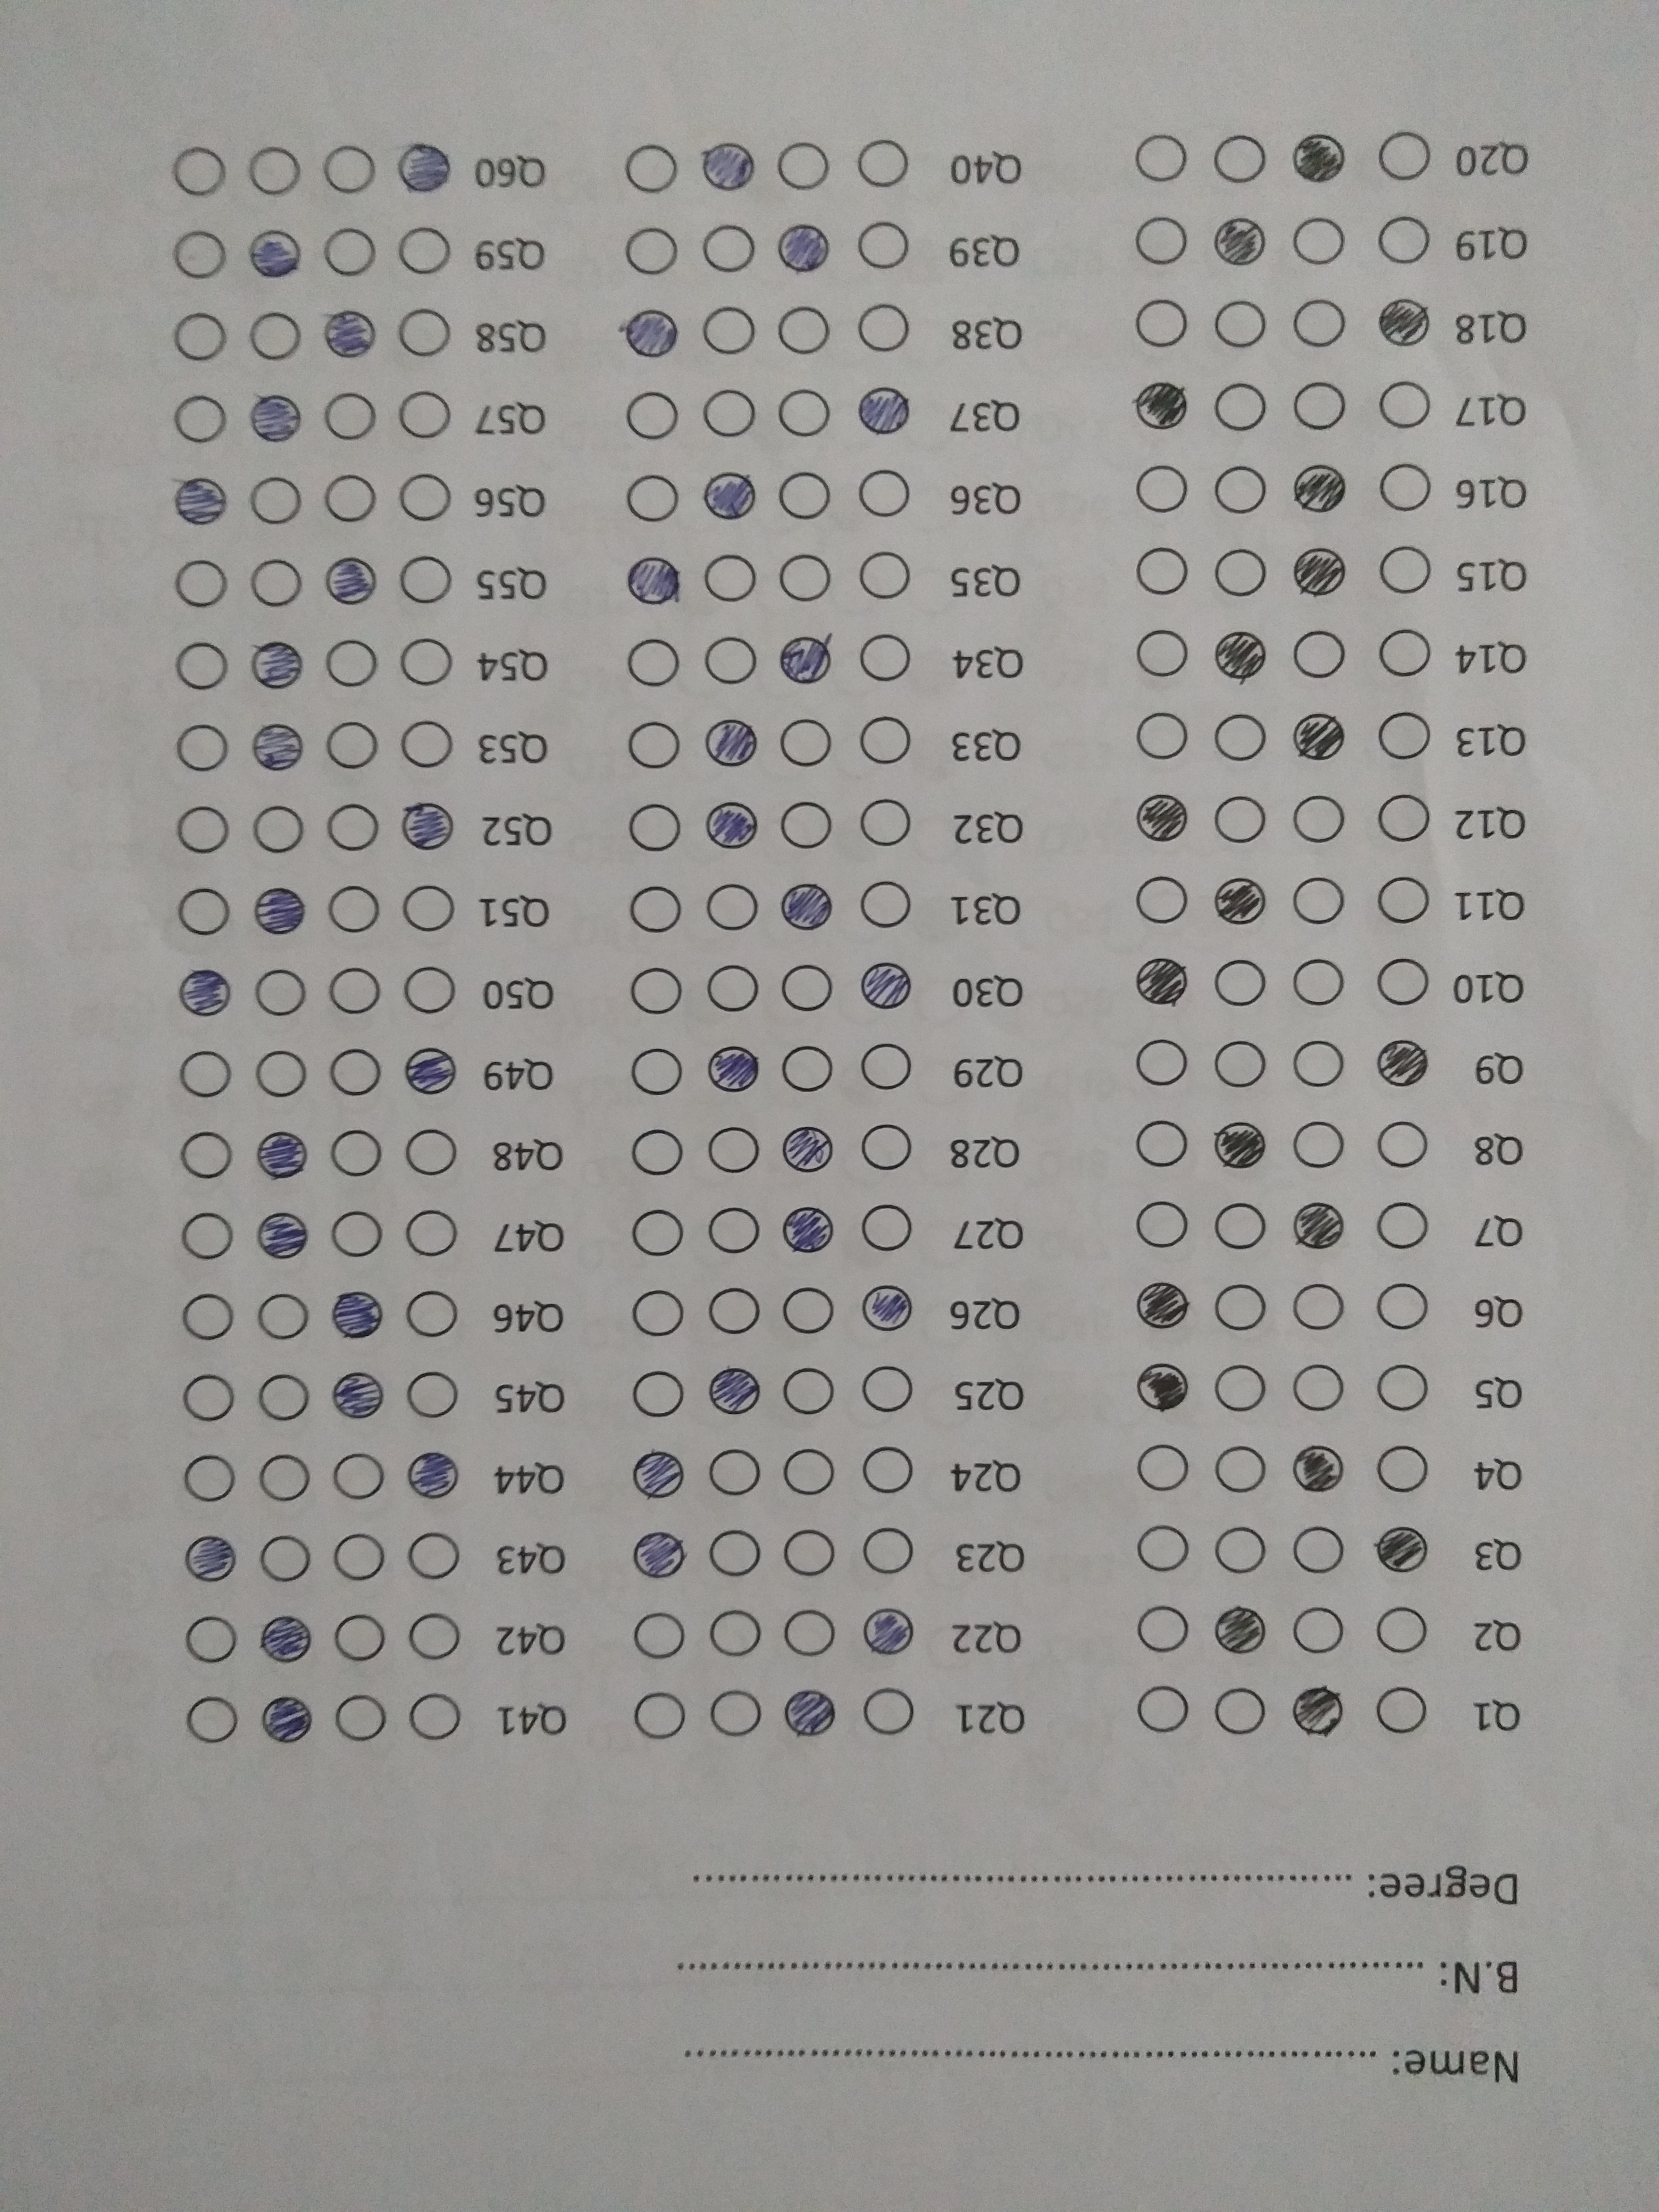not-c: (242, 303, 308, 369), (317, 138, 383, 204), (239, 139, 305, 206), (166, 139, 232, 204), (389, 218, 455, 282), (171, 880, 237, 944), (167, 794, 234, 859), (169, 632, 235, 697), (166, 552, 232, 617), (166, 383, 232, 448), (167, 308, 234, 373), (166, 228, 232, 293), (315, 216, 380, 280), (167, 718, 232, 782), (317, 387, 382, 448), (404, 1686, 469, 1747), (173, 1045, 237, 1106), (322, 960, 387, 1021), (247, 961, 312, 1022), (394, 714, 458, 775), (396, 632, 460, 693), (321, 796, 385, 857), (317, 470, 382, 531), (246, 799, 310, 860), (242, 470, 307, 531), (401, 1362, 465, 1423), (399, 1285, 464, 1346), (324, 1608, 389, 1669), (326, 1526, 390, 1587), (251, 1526, 315, 1587), (253, 1449, 317, 1510), (249, 1369, 314, 1430), (247, 1287, 312, 1348), (178, 1609, 242, 1670), (174, 1367, 239, 1428), (174, 1205, 239, 1266), (174, 1125, 239, 1186), (399, 1608, 464, 1669), (394, 303, 457, 364), (396, 878, 458, 939), (322, 878, 385, 939), (321, 631, 383, 691), (244, 552, 307, 613), (396, 385, 458, 446), (399, 1122, 462, 1183), (326, 1684, 389, 1745), (322, 1122, 385, 1183), (176, 1291, 239, 1352), (1134, 1679, 1195, 1742), (775, 958, 836, 1021), (777, 796, 838, 859), (701, 545, 762, 608), (777, 1278, 838, 1341), (702, 1202, 763, 1264), (626, 1122, 687, 1184), (1129, 864, 1190, 927), (1209, 789, 1270, 852), (1288, 1033, 1349, 1096), (1288, 787, 1349, 850), (397, 963, 462, 1022), (392, 552, 457, 611), (319, 716, 383, 775), (392, 469, 457, 528), (399, 1204, 464, 1263), (181, 1689, 246, 1749), (326, 1204, 390, 1263), (324, 1045, 389, 1104), (179, 1449, 244, 1508), (249, 1045, 314, 1104), (702, 960, 763, 1021), (702, 876, 763, 937), (1209, 1195, 1270, 1256), (1373, 456, 1434, 517), (1209, 376, 1270, 437), (1209, 1684, 1270, 1745), (1373, 1197, 1434, 1258), (403, 1524, 465, 1583), (328, 1444, 390, 1503), (1129, 129, 1188, 192), (861, 1033, 920, 1096), (777, 1038, 836, 1101), (627, 961, 687, 1024), (856, 873, 915, 935), (857, 791, 917, 853), (856, 711, 915, 773), (856, 543, 915, 606), (854, 465, 913, 528), (854, 298, 913, 361), (775, 711, 835, 773), (775, 467, 835, 529), (774, 380, 833, 442), (775, 300, 835, 362), (701, 383, 760, 446), (624, 880, 683, 942), (626, 796, 685, 859), (624, 629, 683, 691), (701, 301, 760, 364), (852, 212, 911, 275), (699, 216, 758, 279), (622, 221, 681, 284), (852, 134, 911, 197), (774, 134, 833, 197), (622, 136, 681, 199), (857, 1522, 917, 1585), (856, 1353, 915, 1416), (854, 1195, 913, 1258), (777, 1602, 836, 1665), (781, 1522, 840, 1585), (779, 1442, 838, 1505), (777, 1360, 836, 1423), (708, 1604, 767, 1667), (629, 1280, 688, 1343), (704, 1280, 763, 1343), (704, 1120, 763, 1183), (631, 1683, 690, 1745), (629, 1205, 688, 1268), (1209, 1033, 1269, 1096), (1209, 951, 1269, 1014), (1131, 1115, 1190, 1177), (1133, 1031, 1192, 1094), (1211, 705, 1270, 768), (1290, 620, 1349, 683), (1377, 624, 1436, 686), (1131, 620, 1190, 683), (1209, 543, 1269, 606), (1133, 540, 1192, 603), (1208, 458, 1267, 521), (1133, 455, 1192, 517), (1377, 374, 1436, 437), (1291, 376, 1351, 439), (1133, 209, 1192, 272), (1375, 124, 1434, 186), (1291, 1602, 1351, 1665), (1290, 1280, 1349, 1343), (1209, 1440, 1269, 1503), (1288, 1353, 1347, 1416), (1209, 1357, 1269, 1420), (1133, 1515, 1192, 1578), (1134, 1437, 1194, 1500), (1375, 1116, 1434, 1179), (1290, 1115, 1349, 1177), (1377, 949, 1436, 1012), (1288, 949, 1347, 1012), (1375, 873, 1434, 935), (1290, 869, 1349, 932), (1370, 1677, 1429, 1740), (1373, 1601, 1432, 1663), (1373, 1439, 1432, 1501), (1373, 1359, 1432, 1421), (1370, 1275, 1429, 1338), (1209, 129, 1269, 190), (629, 1045, 688, 1106), (854, 627, 913, 688), (775, 547, 835, 608), (702, 629, 762, 690), (626, 716, 685, 777), (624, 469, 683, 529), (624, 385, 683, 446), (857, 1684, 917, 1745), (857, 1439, 917, 1500), (856, 1115, 915, 1176), (706, 1683, 765, 1743), (704, 1522, 763, 1583), (708, 1444, 767, 1505), (627, 1606, 687, 1667), (629, 1360, 688, 1421), (1131, 1195, 1190, 1256), (1373, 705, 1432, 766), (1133, 709, 1192, 770), (1377, 536, 1436, 597), (1133, 296, 1192, 357), (1291, 291, 1351, 352), (1213, 294, 1272, 355), (1375, 211, 1434, 272), (1291, 209, 1351, 270), (1288, 1522, 1347, 1583), (1213, 1521, 1272, 1581), (1134, 1601, 1194, 1662), (1209, 1280, 1269, 1341), (1373, 786, 1432, 846)
taken-c: (247, 226, 305, 282), (321, 307, 378, 362), (777, 631, 833, 688), (171, 474, 230, 528), (774, 221, 833, 275), (857, 958, 913, 1014), (396, 141, 453, 195), (699, 138, 756, 192), (704, 794, 758, 852), (247, 721, 307, 773), (699, 469, 758, 521), (1286, 1442, 1345, 1494), (1375, 1521, 1434, 1573), (249, 637, 305, 691), (399, 799, 455, 853), (708, 1040, 762, 1096), (258, 1613, 314, 1667), (1134, 1277, 1190, 1331), (176, 965, 234, 1017), (622, 307, 680, 359), (624, 554, 681, 606), (702, 718, 760, 770), (1291, 132, 1349, 185), (629, 1446, 687, 1498), (1133, 1359, 1192, 1409), (779, 880, 833, 934), (1136, 953, 1190, 1007), (782, 1122, 836, 1176), (1291, 1198, 1345, 1252), (249, 390, 305, 442), (1377, 296, 1432, 348), (329, 1287, 385, 1339), (329, 1369, 385, 1421), (1213, 1604, 1269, 1656), (1133, 792, 1190, 843), (1291, 547, 1349, 597), (403, 1449, 460, 1500), (777, 1205, 836, 1254), (324, 556, 378, 608), (1293, 463, 1347, 516), (254, 1207, 308, 1259), (1215, 1118, 1269, 1170), (1291, 1684, 1345, 1737), (857, 385, 913, 435), (1291, 711, 1347, 761), (1213, 216, 1269, 266), (183, 1534, 239, 1585), (782, 1688, 838, 1738), (1373, 1038, 1431, 1087), (861, 1608, 918, 1656), (631, 1529, 688, 1578), (1215, 629, 1267, 681), (261, 1693, 314, 1745), (404, 1045, 458, 1096), (254, 1129, 308, 1179), (708, 1364, 762, 1414), (254, 887, 310, 935), (1209, 878, 1267, 925), (1134, 380, 1187, 430), (861, 1280, 913, 1331)
